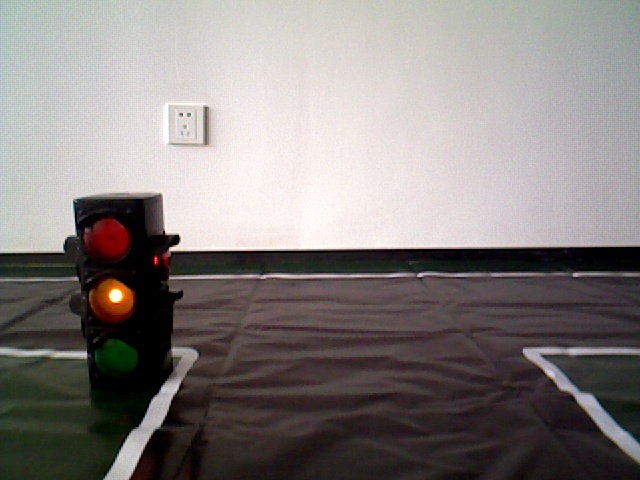yellow: (76, 192, 168, 379)
